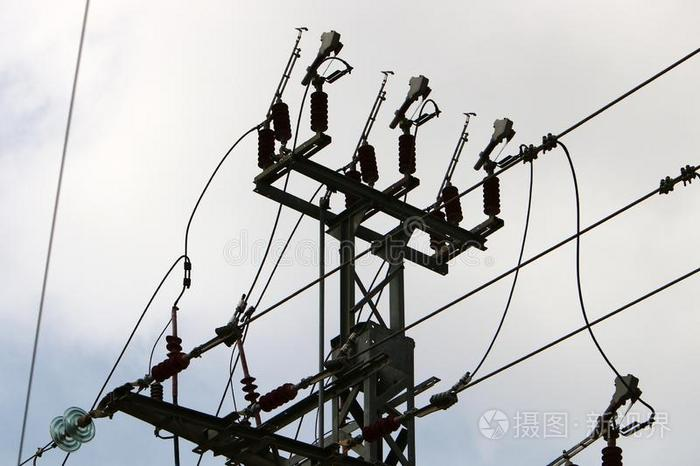insulator: (49, 408, 94, 455)
